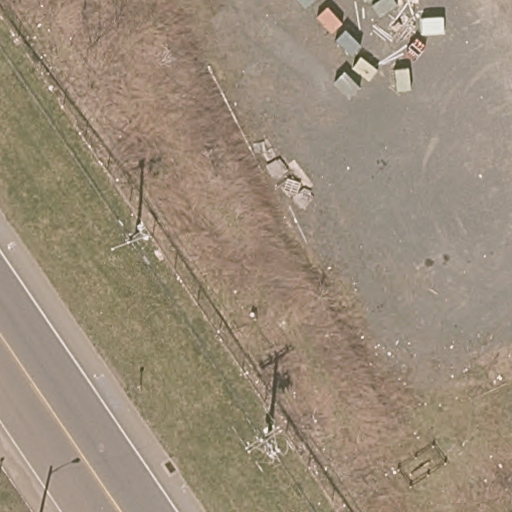DT: (244, 426, 282, 452), (109, 236, 153, 250)
